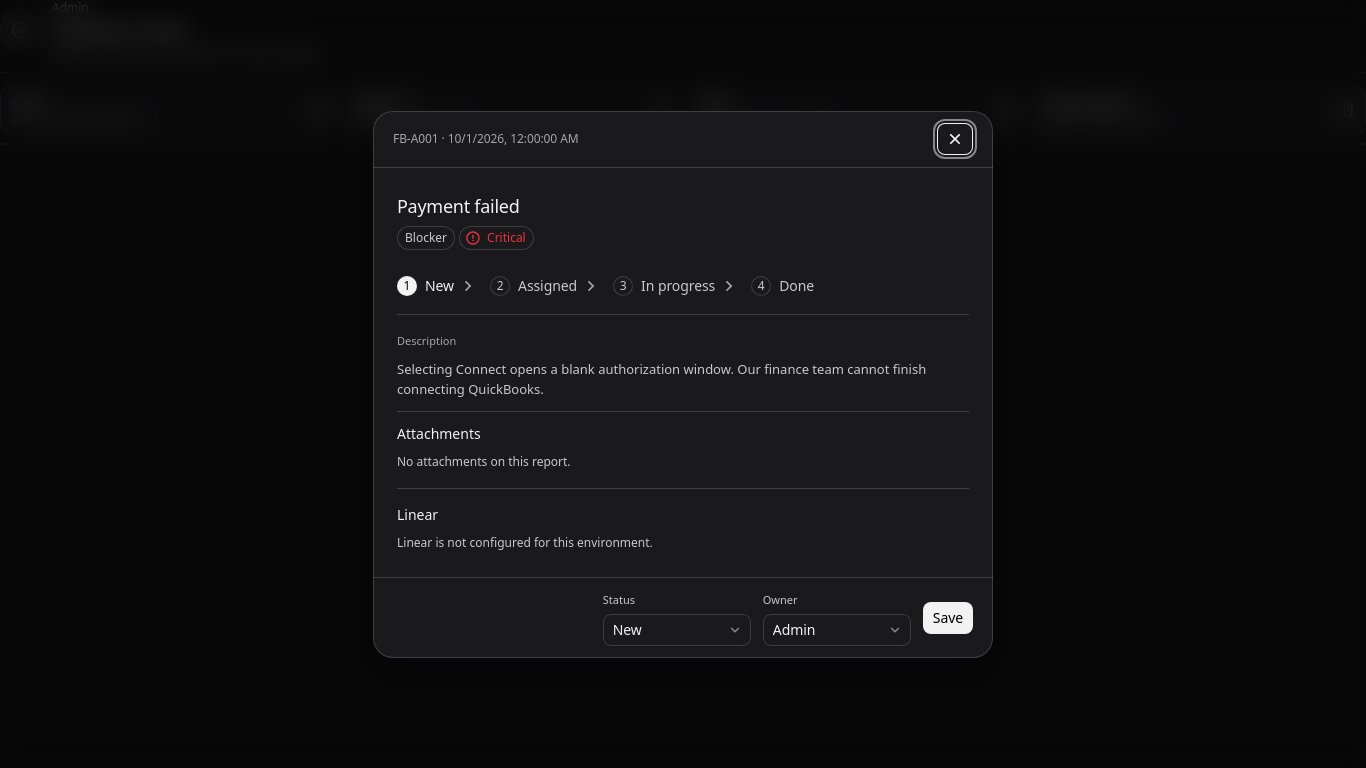
Test: opens the report from its URL, saves status and owner, and shows a toast
The image size is (1366, 768).
Check: the heading "Payment failed" is shown, box [397,194,520,218]
Check: the text "No attachments on this report." is shown, box [397,452,570,470]
Select "Assigned" in the dropdown named "Report status": [677, 630] box [603,614,751,646]
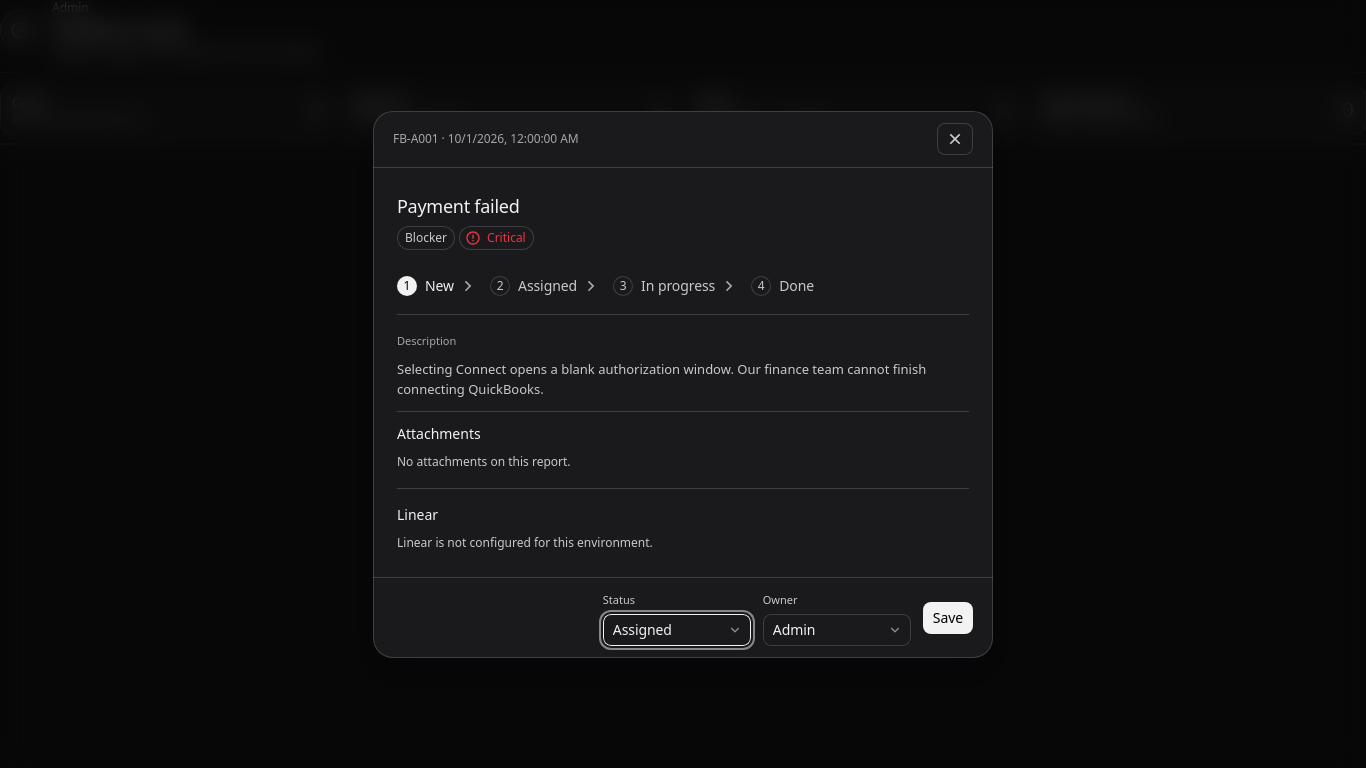
Select "Admin" in the dropdown named "Report owner": [837, 630] box [763,614,911,646]
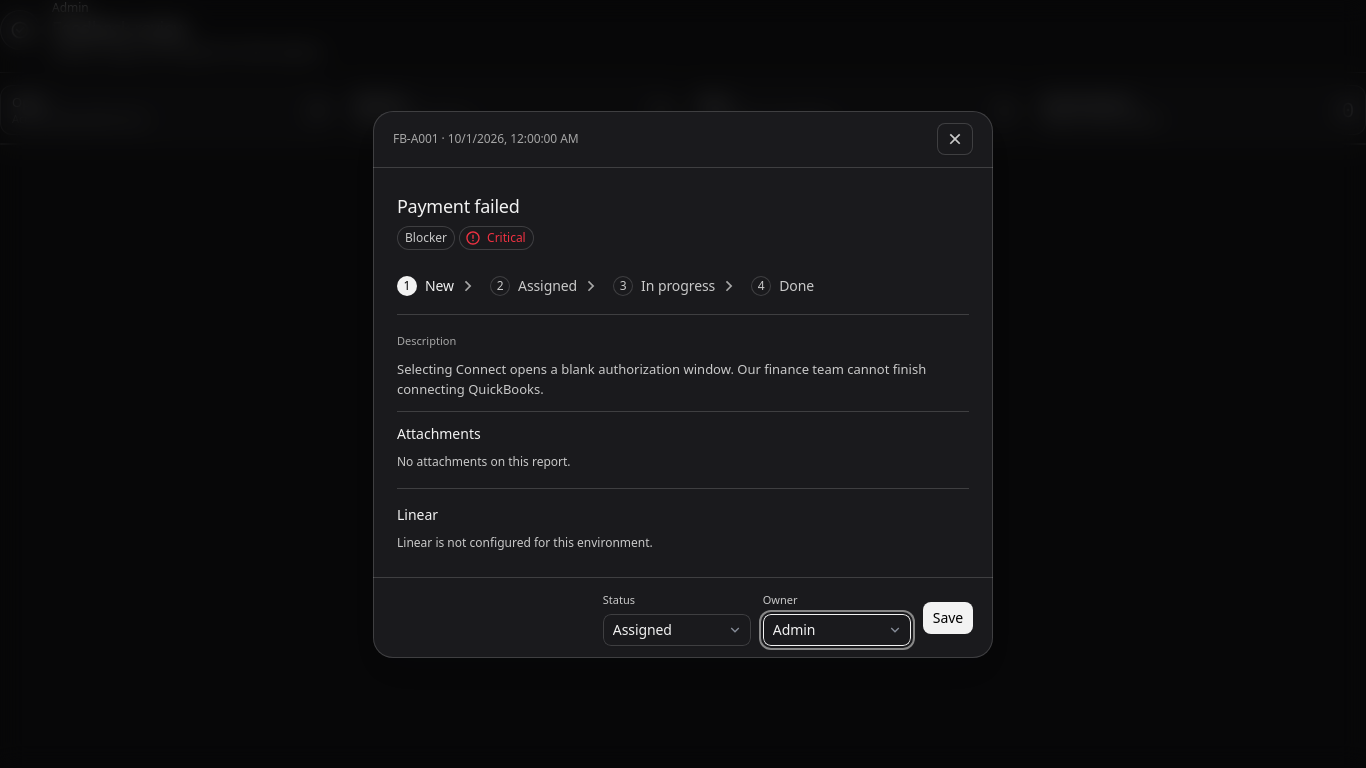
Click the button "Save": [948, 618] box [923,602,973,634]
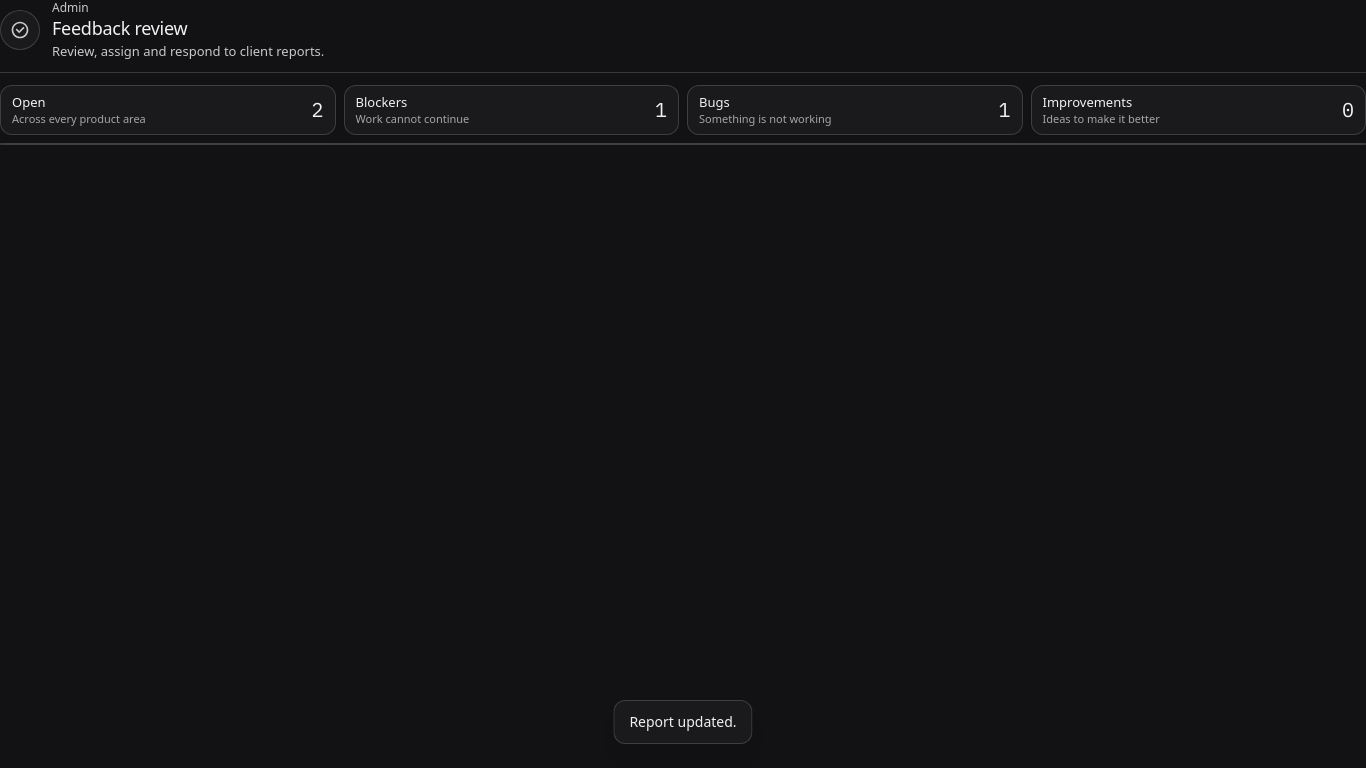
Check: the message reads "Report updated.", box [629,712,737,731]
Check: the dialog is gone
